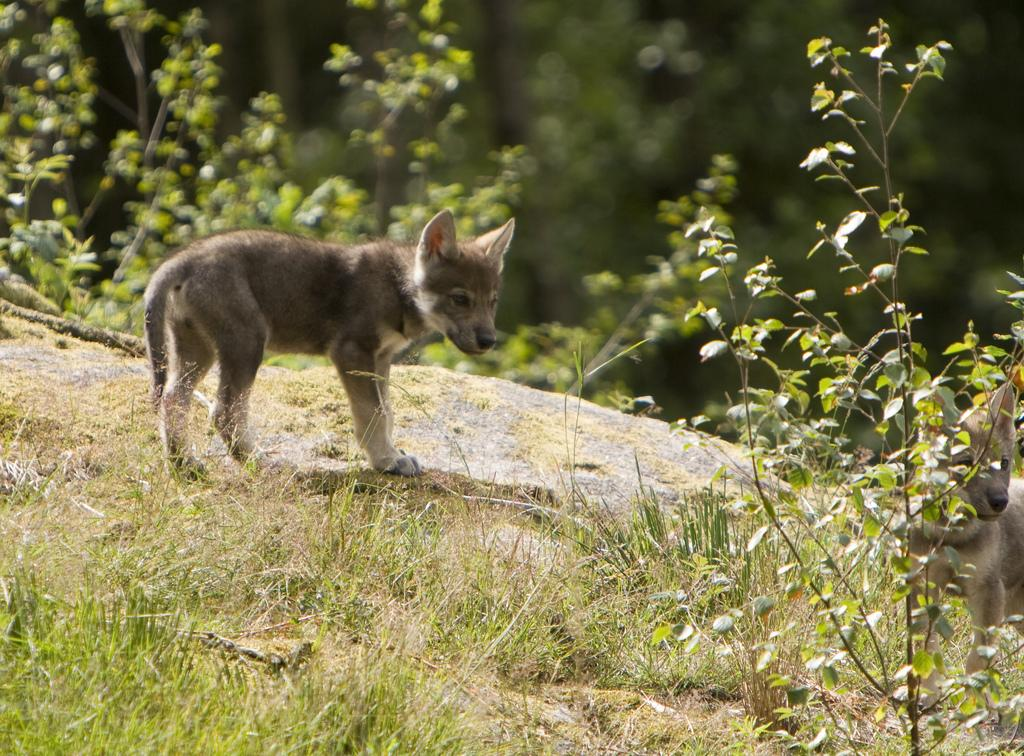Wolf: (136, 203, 526, 507)
